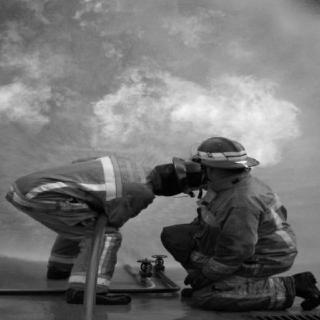Fire: (2, 6, 294, 168)
